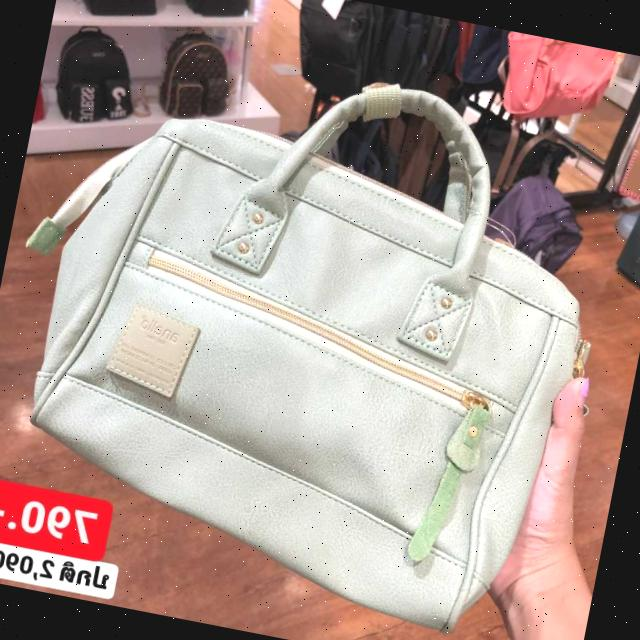handbag: (7, 26, 626, 640)
